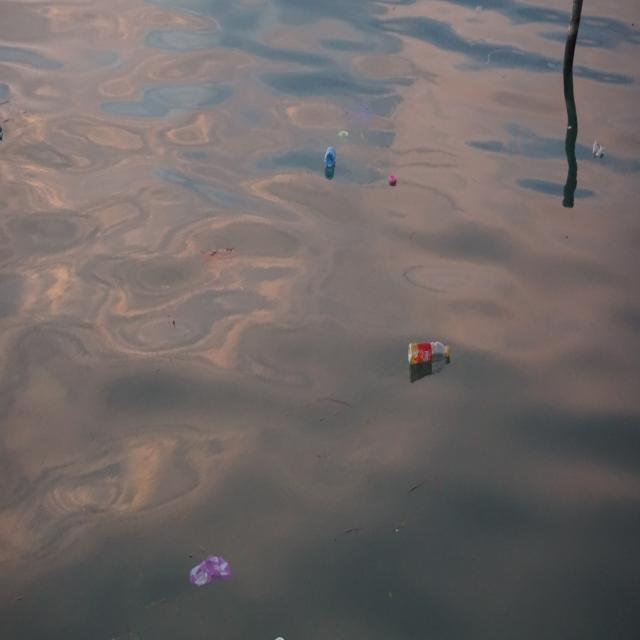Botol Plastik: (404, 330, 457, 382), (322, 143, 342, 174)
